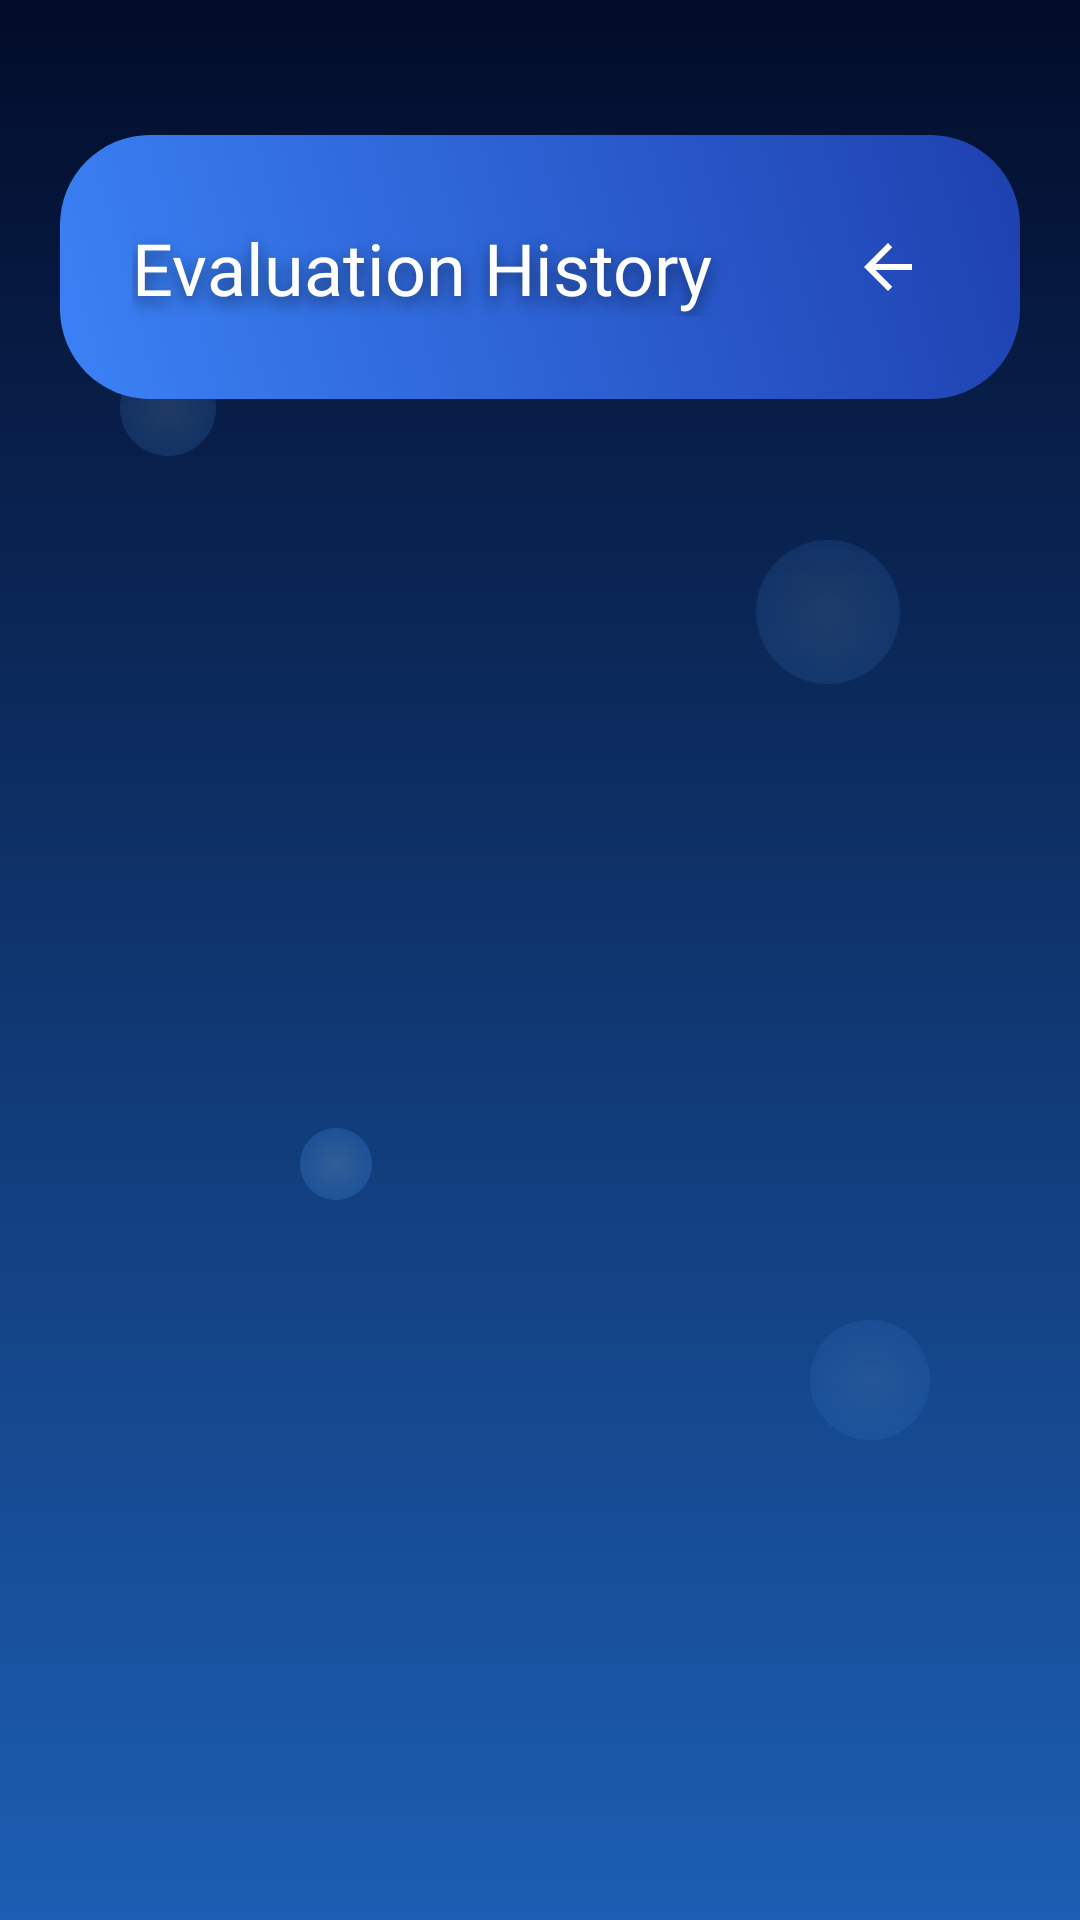

Screen size 1080w x 1920h. Icon name, then its box in pixels as (x1, y1, x2, y2):
Back: (864, 243, 912, 291)
